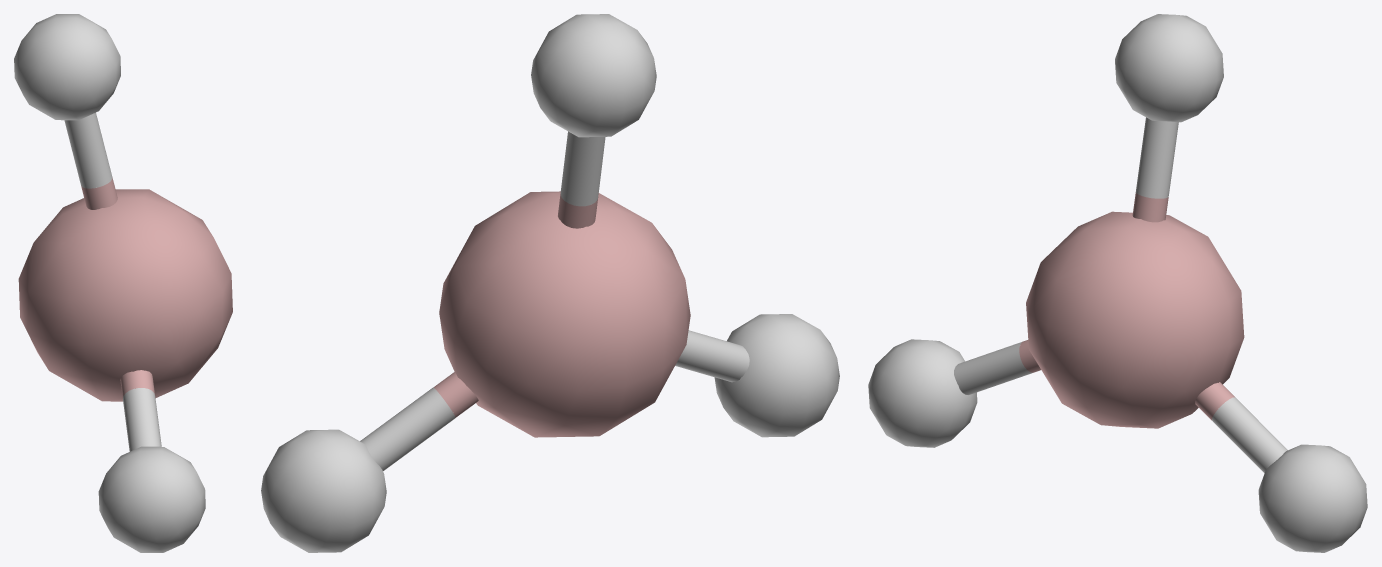
3 renders of one model, left to right at view 1: azimuth 30°, elevation 25°; view 2: azimuth 150°, elevation 25°; view 3: azimuth 270°, elevation 25°, orthographic. The views are drawn at different scales.
Visible parts, largest first — view 1: vmd_mol0_rep0; view 2: vmd_mol0_rep0; view 3: vmd_mol0_rep0.
Part boxes in pixels (x1,y1,x2,y2): vmd_mol0_rep0: (14,14,232,552); vmd_mol0_rep0: (261,14,839,552); vmd_mol0_rep0: (868,14,1367,552).
Size of the model in its own units: 1.12 by 1.64 by 1.65.
